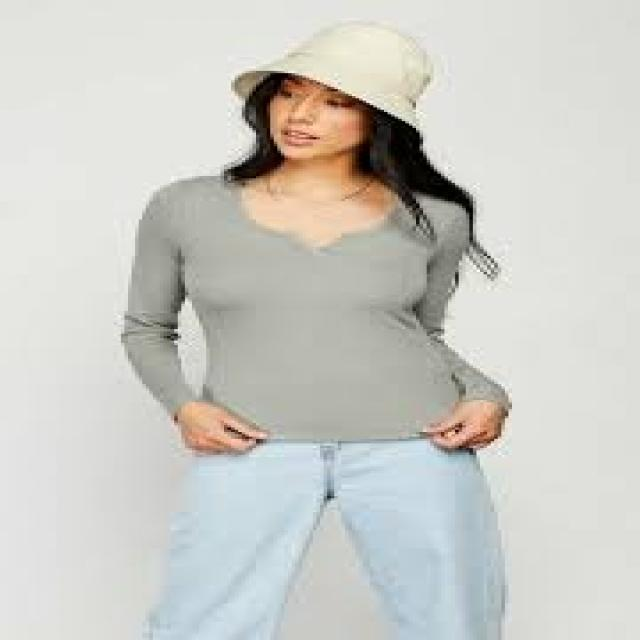plain: (83, 150, 558, 484)
